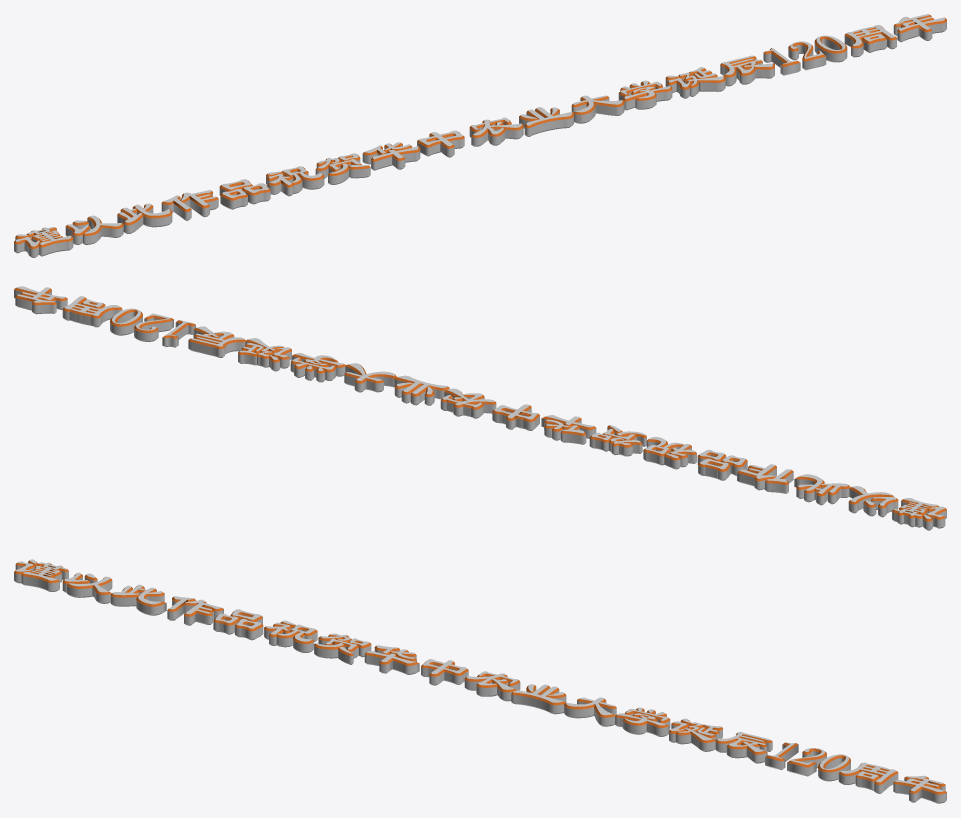
Rendered from zhuhe.fbx.
The picture shows the model from 3 angles, top to bottom: view 1: azimuth 30°, elevation 25°; view 2: azimuth 150°, elevation 25°; view 3: azimuth 330°, elevation 25°; orthographic projection.
Visible parts, largest first — view 1: Text; view 2: Text; view 3: Text.
Boxes of the visible parts, left/top/right/bottom form: Text: left=14, top=14, right=946, bottom=257; Text: left=14, top=286, right=946, bottom=530; Text: left=14, top=559, right=946, bottom=803.
Size of the model in its own units: 171 by 2 by 7.01.
